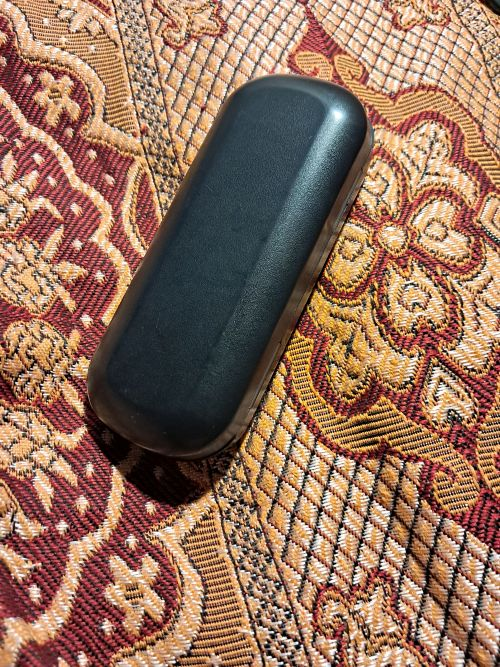case: (85, 76, 372, 461)
